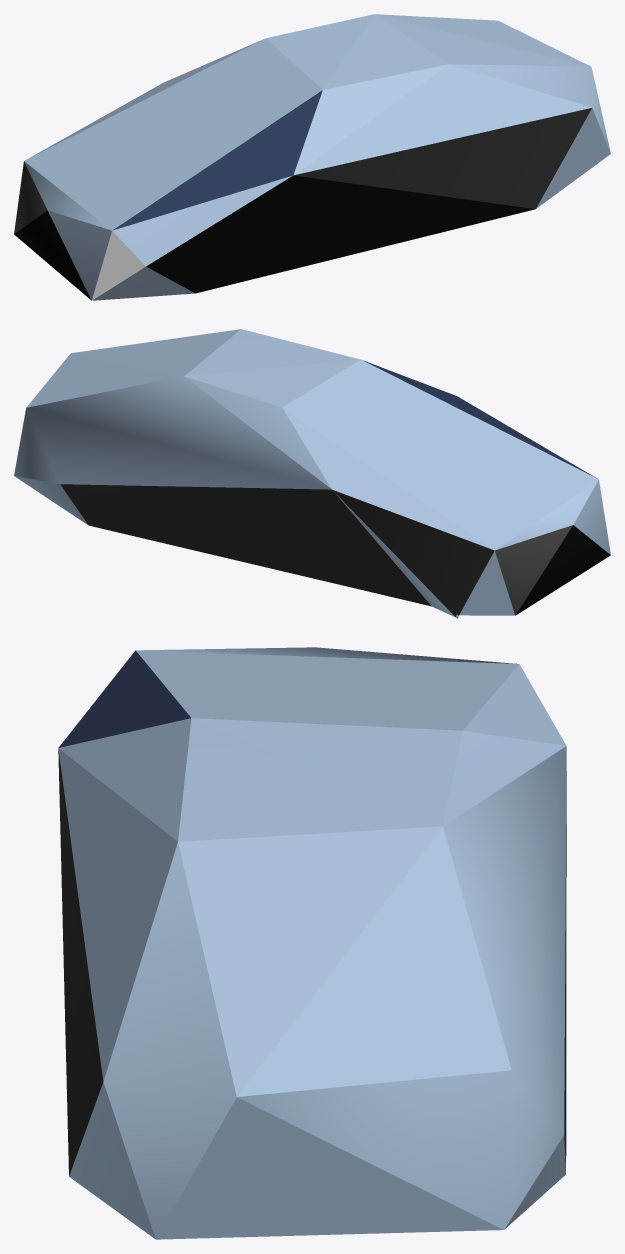
The model's file is togg_physics.fbx.
3 renders of one model, top to bottom at view 1: azimuth 30°, elevation 25°; view 2: azimuth 150°, elevation 25°; view 3: azimuth 270°, elevation 25°, orthographic. The views are drawn at different scales.
Visible parts, largest first — view 1: polySurface362; view 2: polySurface362; view 3: polySurface362.
Part boxes in pixels (x1=…): polySurface362: x1=14, y1=14, x2=610, y2=300; polySurface362: x1=14, y1=329, x2=610, y2=618; polySurface362: x1=58, y1=647, x2=566, y2=1239.
Size of the model in its own units: 511 by 140 by 215.
